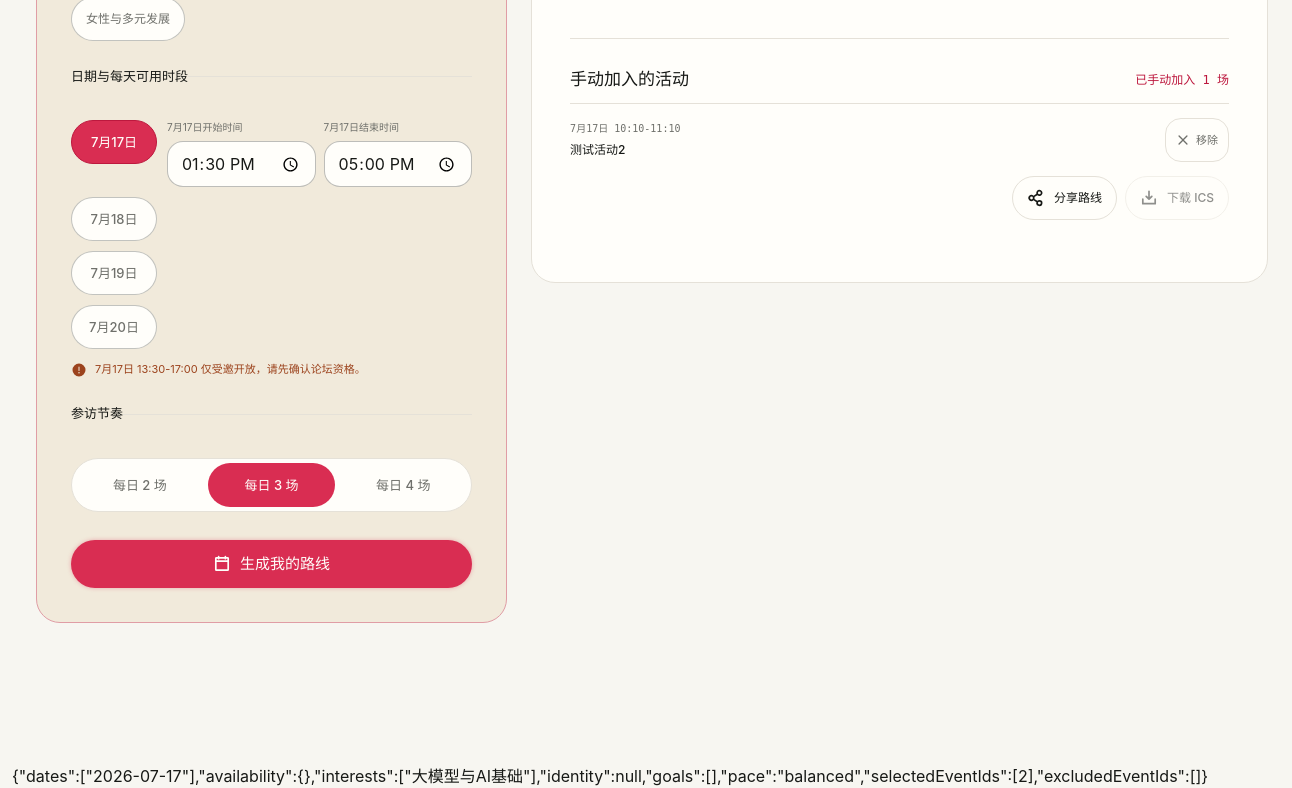
Test: 30-second planner › keeps fixed sessions in the canonical route and recomputes after removal
(page scrolled)
Click the button "生成我的路线".
click(272, 564)  # box [71,540,472,588]
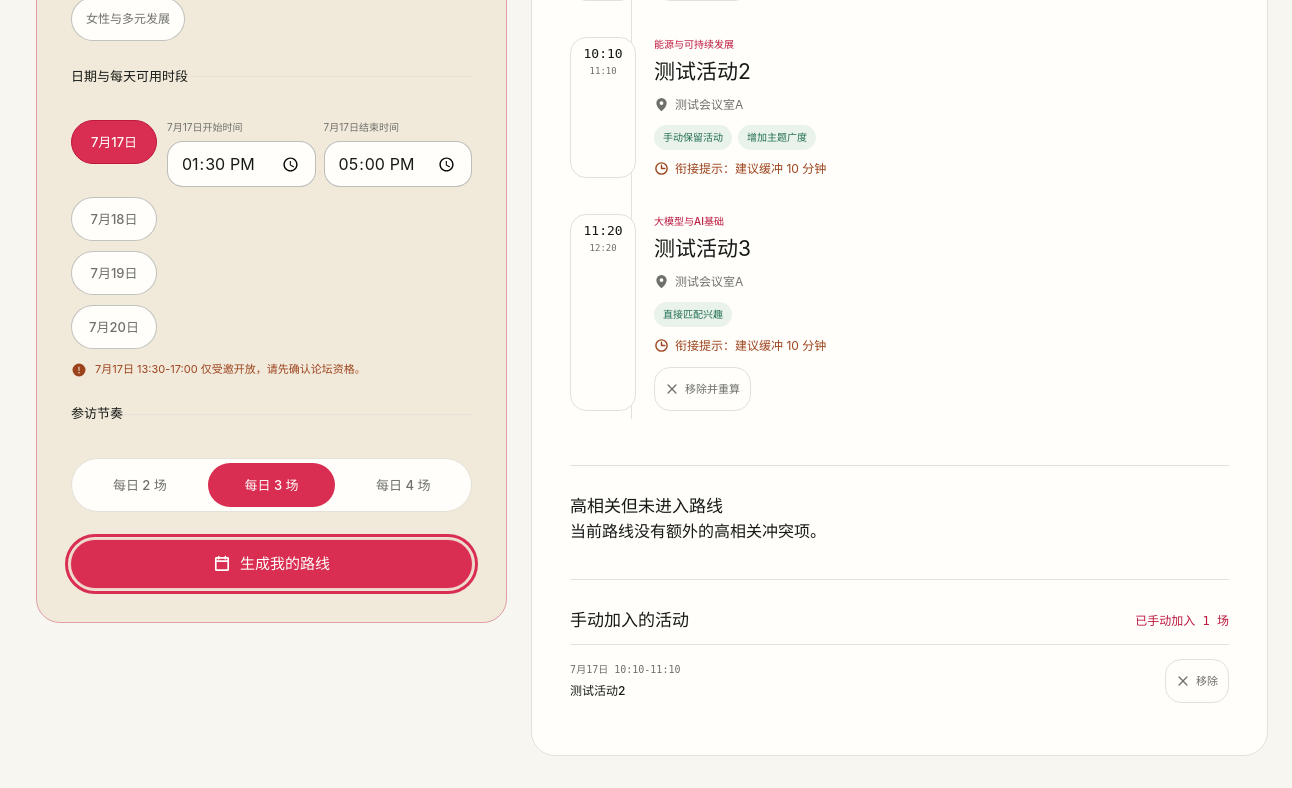
Result: the text "手动保留活动" is shown at [654,125,732,150]
Click the button with aria-label "从路线移除：测试活动2".
click(1197, 681)  # box [1165,659,1229,703]
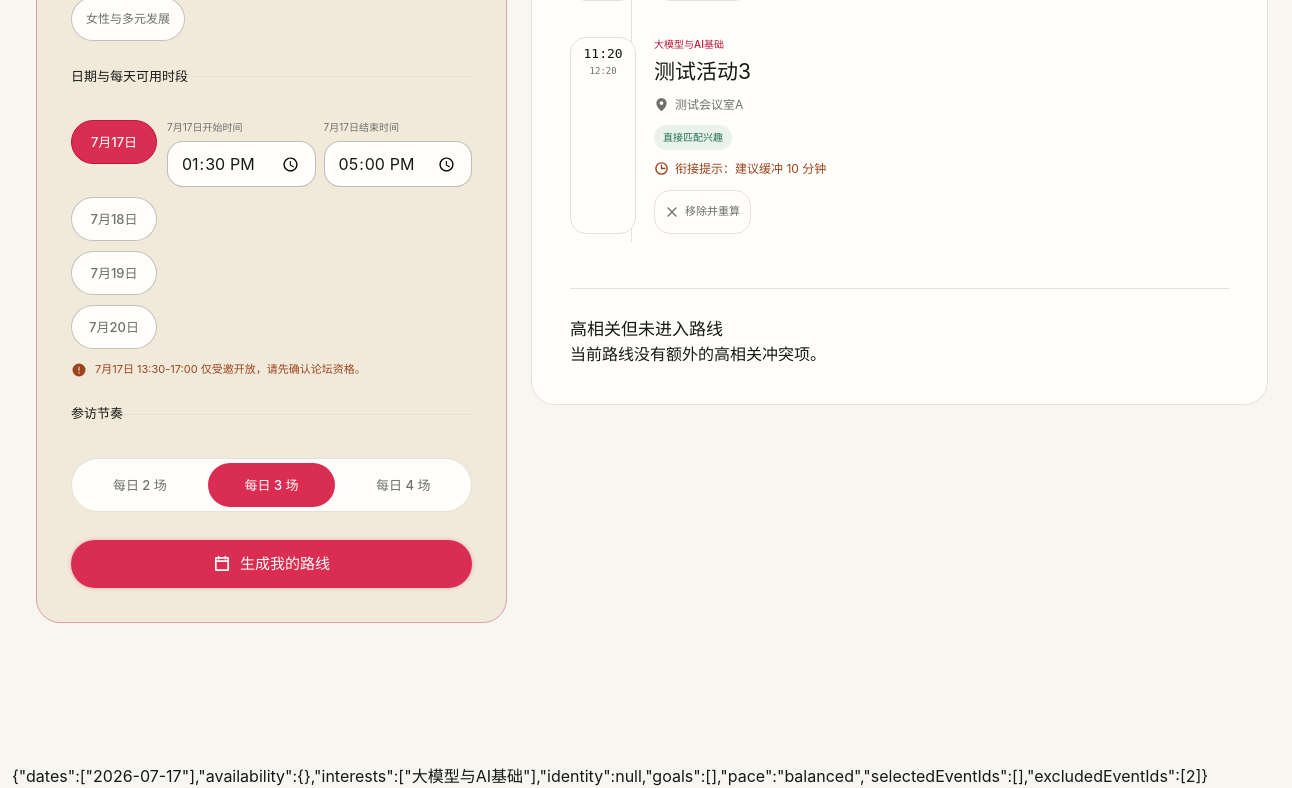
Result: the heading "测试活动3" is shown at [654,59,751,84]
Result: the heading "测试活动2" is gone
